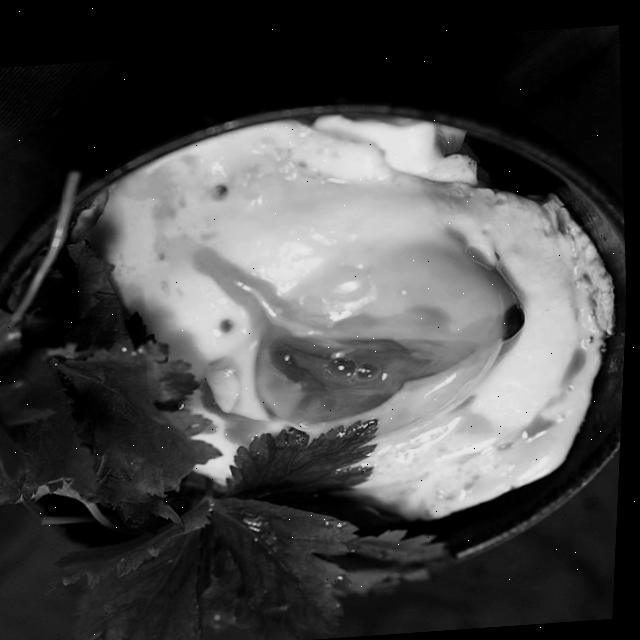鸡蛋料理: (0, 84, 637, 603)
